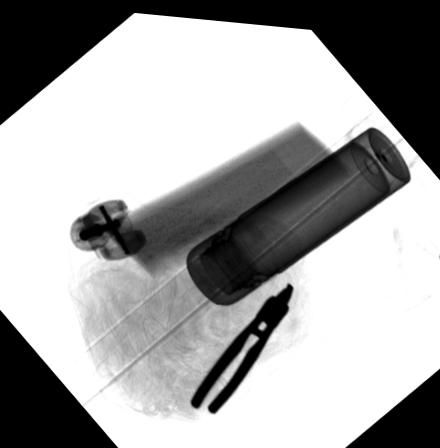Pliers: (188, 275, 293, 409)
